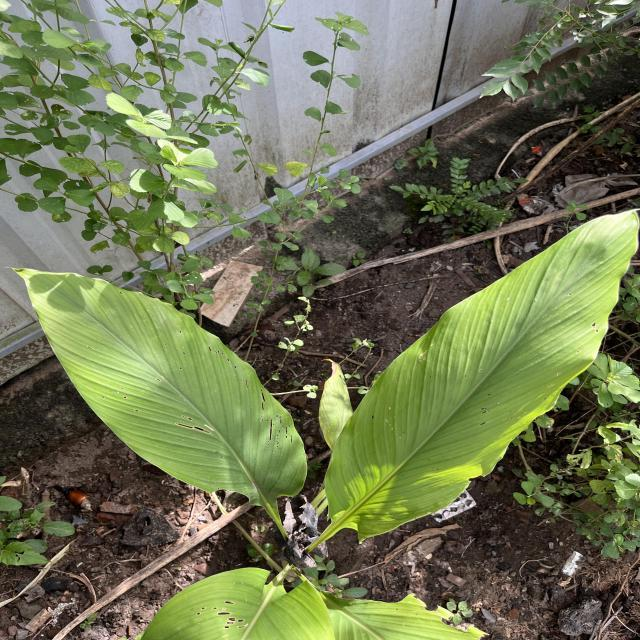Curcuma longa: (316, 203, 640, 543), (0, 260, 322, 516)
